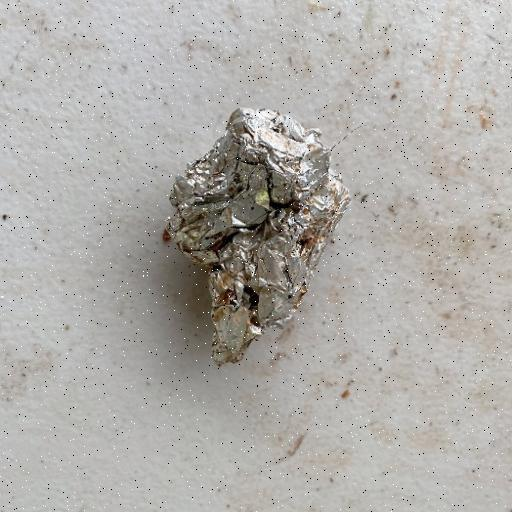Metal: (161, 104, 353, 368)
